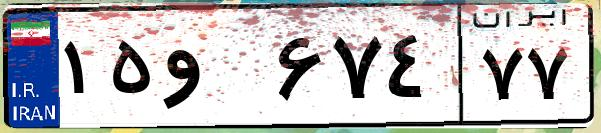1: (57, 26, 110, 100)
4: (385, 28, 445, 110)
5: (110, 28, 158, 98)
6: (270, 28, 330, 110)
7: (330, 28, 385, 110), (475, 38, 525, 113), (525, 38, 570, 115)
و: (158, 20, 270, 120)
